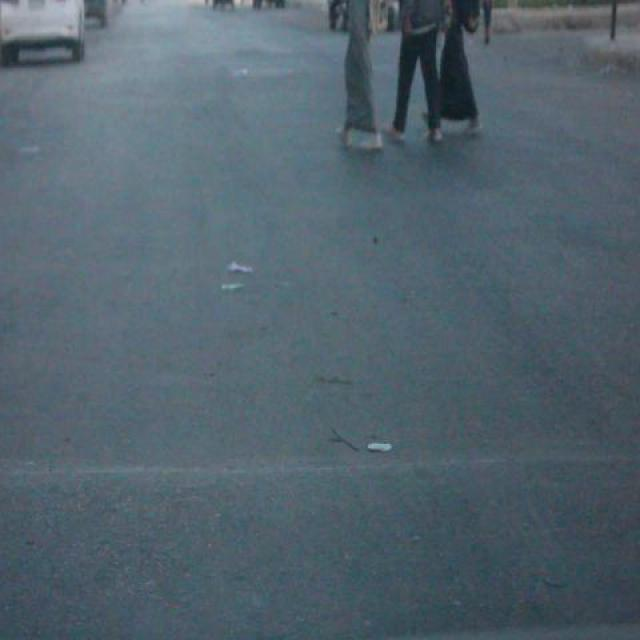Unmarked Bump: (0, 453, 640, 640)
